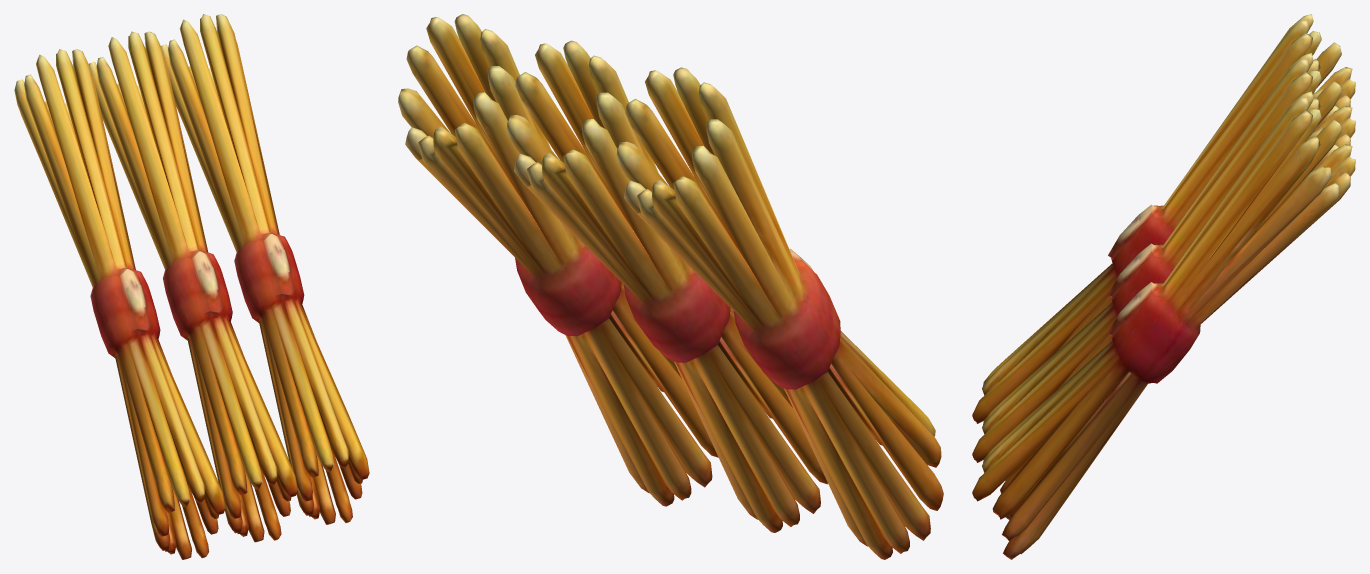
The model's file is noodles.glb.
3 renders of one model, left to right at view 1: azimuth 30°, elevation 25°; view 2: azimuth 150°, elevation 25°; view 3: azimuth 270°, elevation 25°, orthographic. The views are drawn at different scales.
Visible parts, largest first — view 1: Noodles; view 2: Noodles; view 3: Noodles.
Part boxes in pixels (left/top/right/bottom): Noodles: left=14, top=14, right=369, bottom=559; Noodles: left=398, top=14, right=943, bottom=559; Noodles: left=972, top=14, right=1355, bottom=559.
Size of the model in its own units: 0.9366 by 1.71 by 1.3.
Materials: 3 (3 with a texture image).
